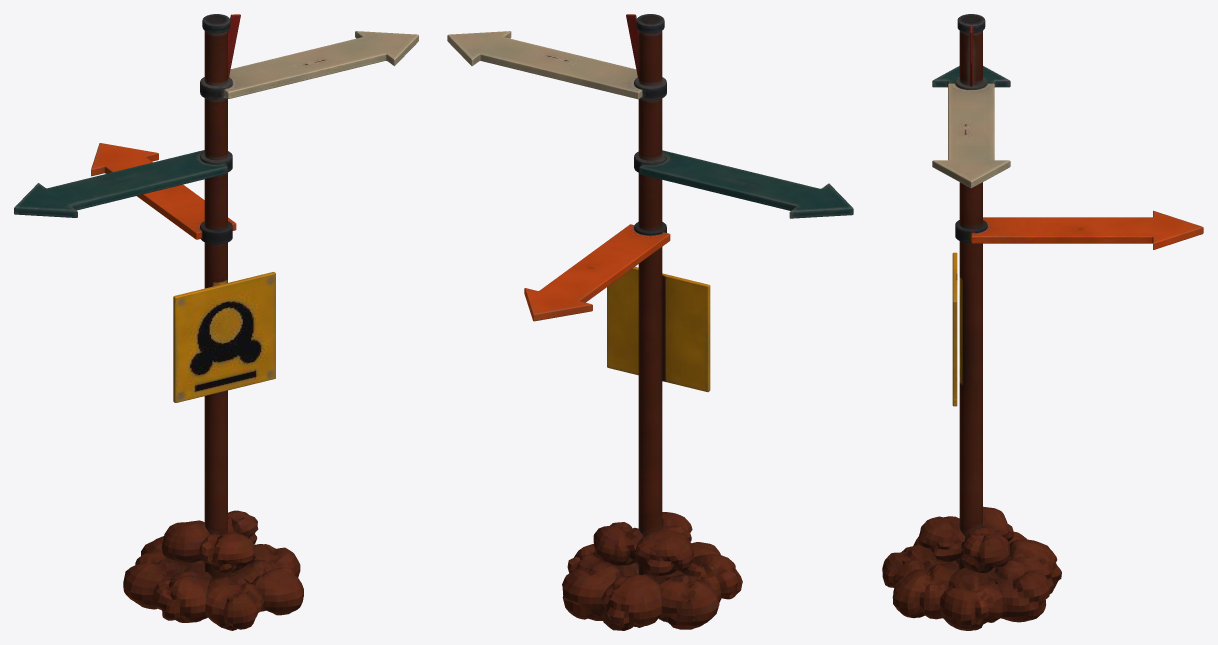
The model's file is signpost.glb.
3 views of the same model, side by side, from view 1: azimuth 30°, elevation 25°; view 2: azimuth 150°, elevation 25°; view 3: azimuth 270°, elevation 25° (orthographic).
Visible parts, largest first — view 1: signpost; view 2: signpost; view 3: signpost.
Part boxes in pixels (x1,y1,x2,y2): signpost: [14, 14, 418, 630]; signpost: [447, 14, 853, 630]; signpost: [882, 14, 1203, 630].
Size of the model in its own units: 2 by 2.78 by 1.38.
Materials: 1 (1 with a texture image).
